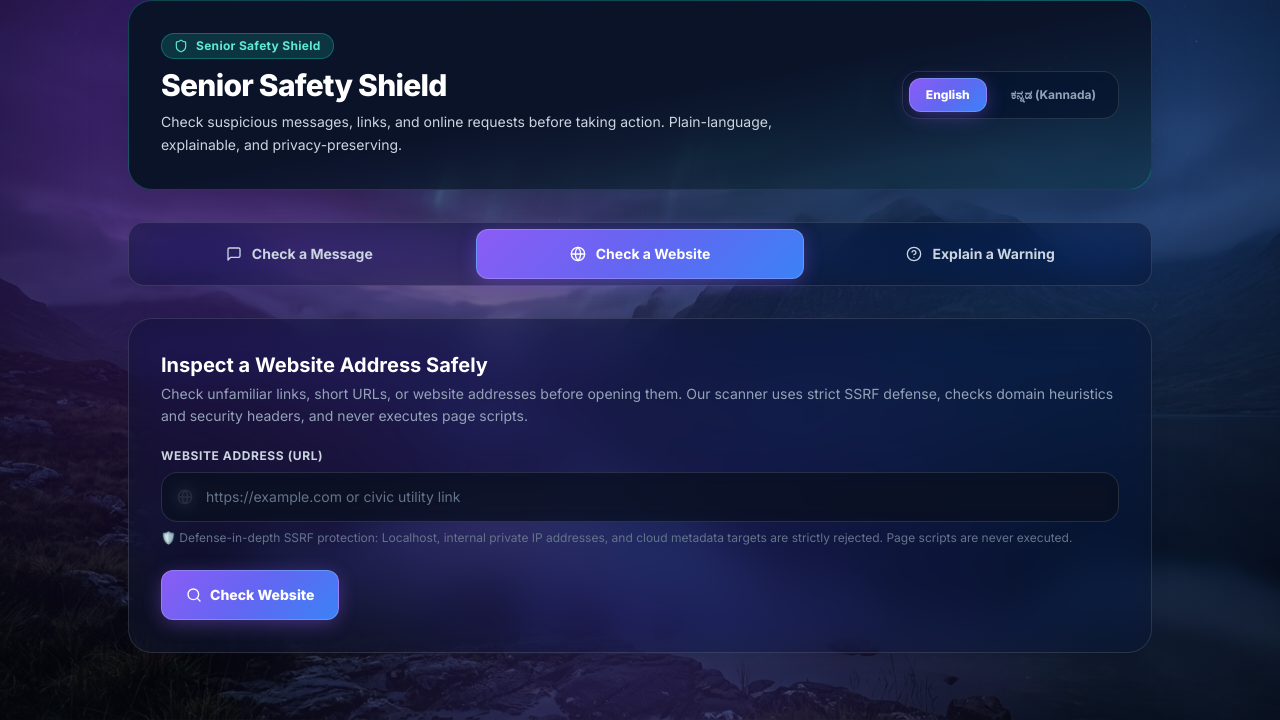
it: Senior Safety Shield — Frontend & Dashboard Integration › SafetyShieldPage Component › Check a Website: inspects URL and renders findings, security headers, and safe guidance
Type "example-portal.com" into the field with placeholder "https://example.com or civic utility link" at [640, 497], box [161,472,1119,522]
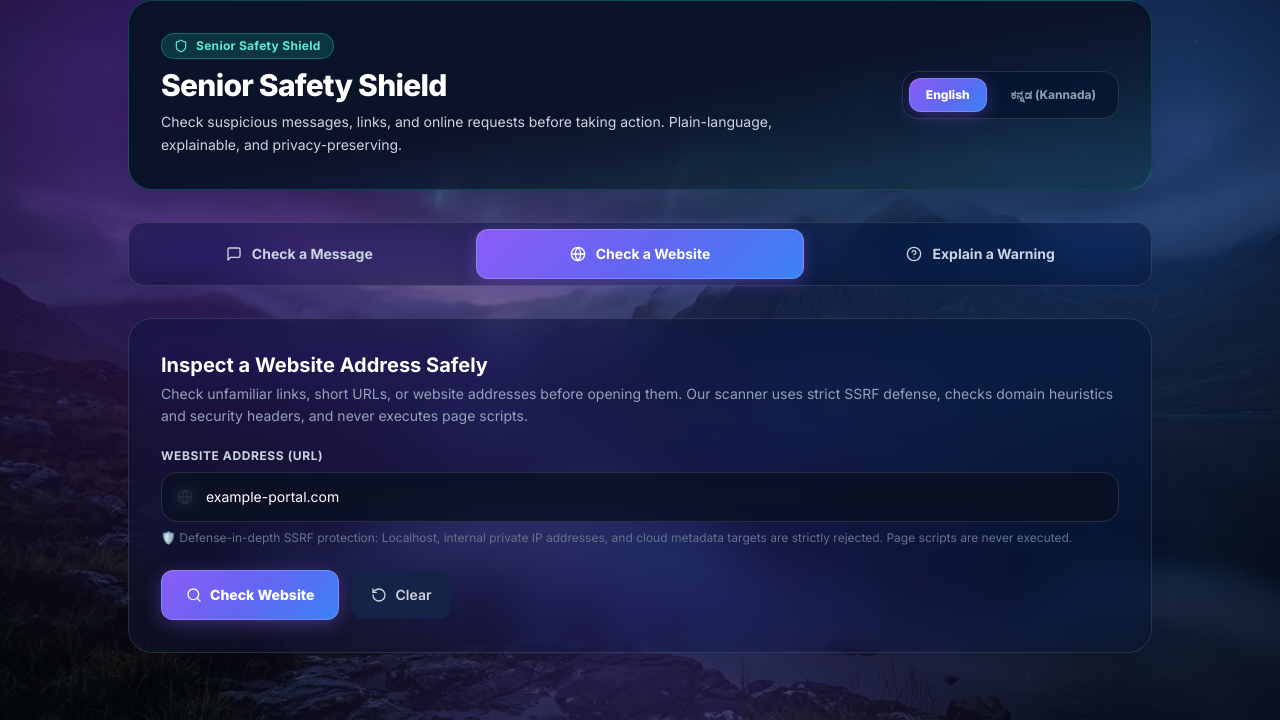
Click the button "Check Website" at [250, 595], box [161,570,340,620]
(page scrolled)
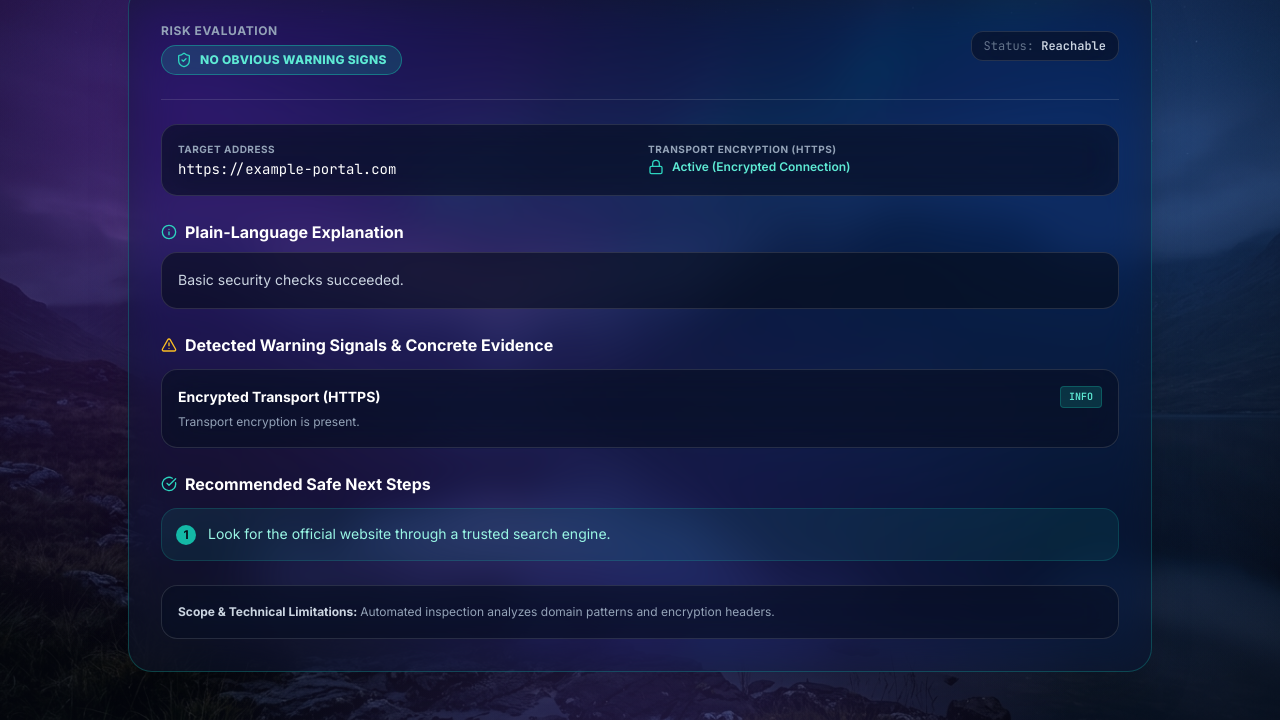
Now the text "No Obvious Warning Signs" is shown, box [200,52,387,68]
Now the text "Encrypted Transport (HTTPS)" is shown, box [178,387,381,407]
Now the text "Active (Encrypted Connection)" is shown, box [672,159,851,175]
